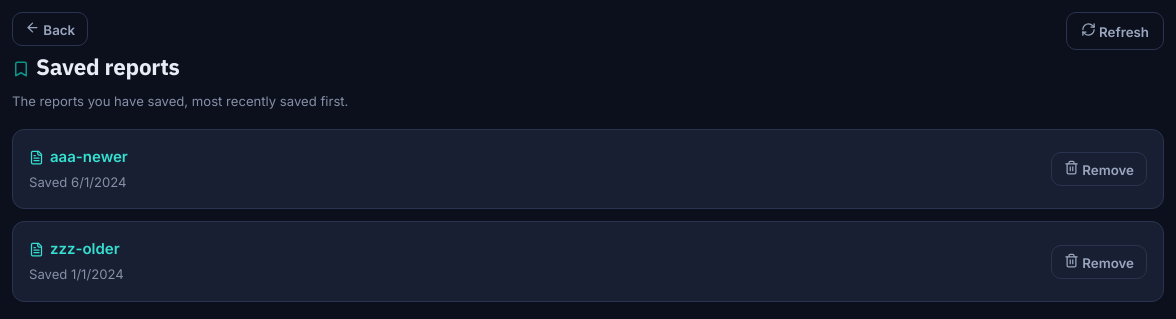
HistoryView › removes an entry on a successful remove (Req 8.1, 8.2)
What coordinates should you click on to do the following:
click the button "Remove" in the row of "Saved 6/1/2024"
I would click on:
 (1099, 169)
Its box is [1051,152,1147,186].
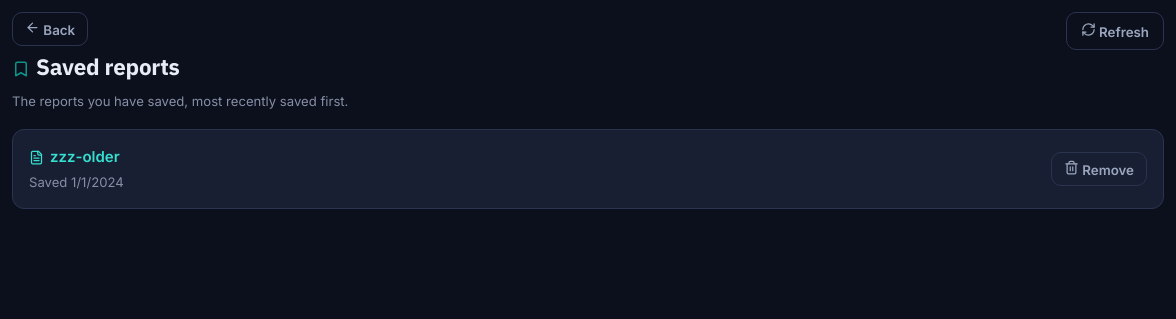
Expected: the text "zzz-older" is shown, [50,146,120,169]
Expected: the button "aaa-newer" is gone
